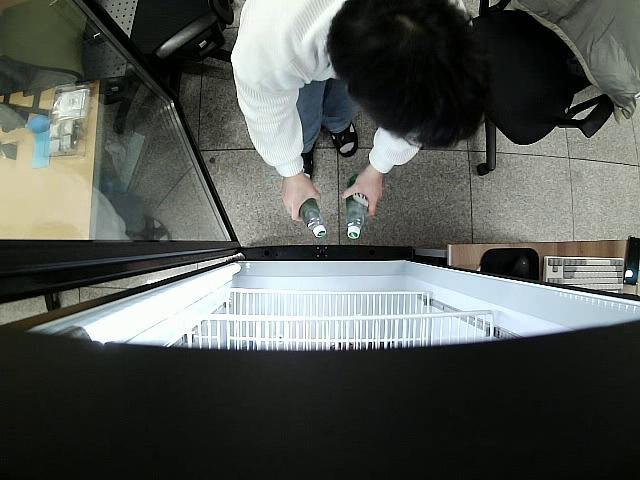18_trevi: (344, 170, 370, 239), (298, 196, 328, 238)
